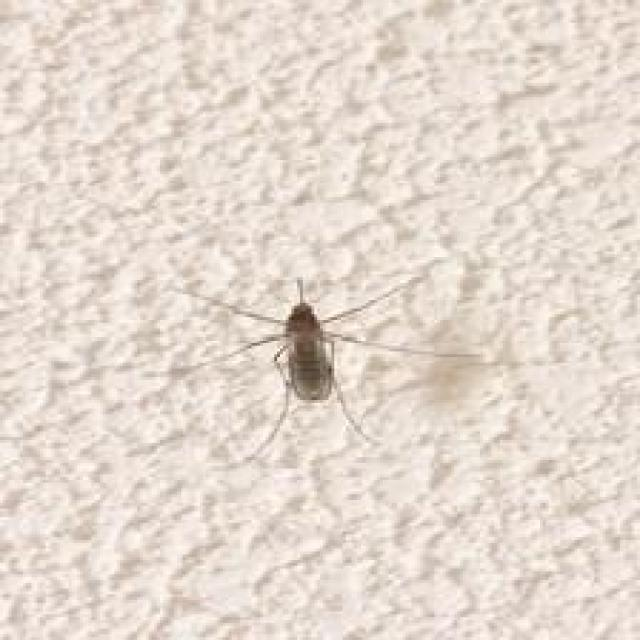Culex: (143, 268, 483, 463)
